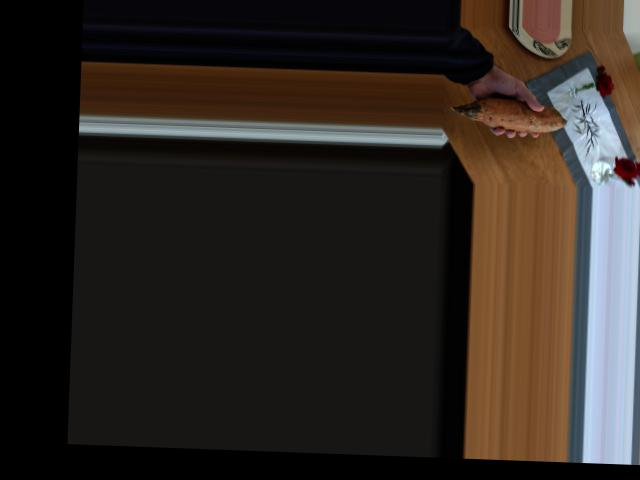sweet_potato: (459, 86, 570, 138)
